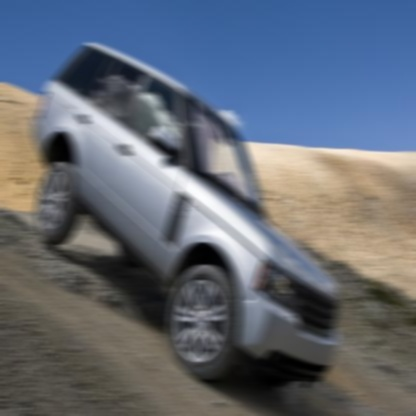Vehicle: (31, 41, 340, 390)
